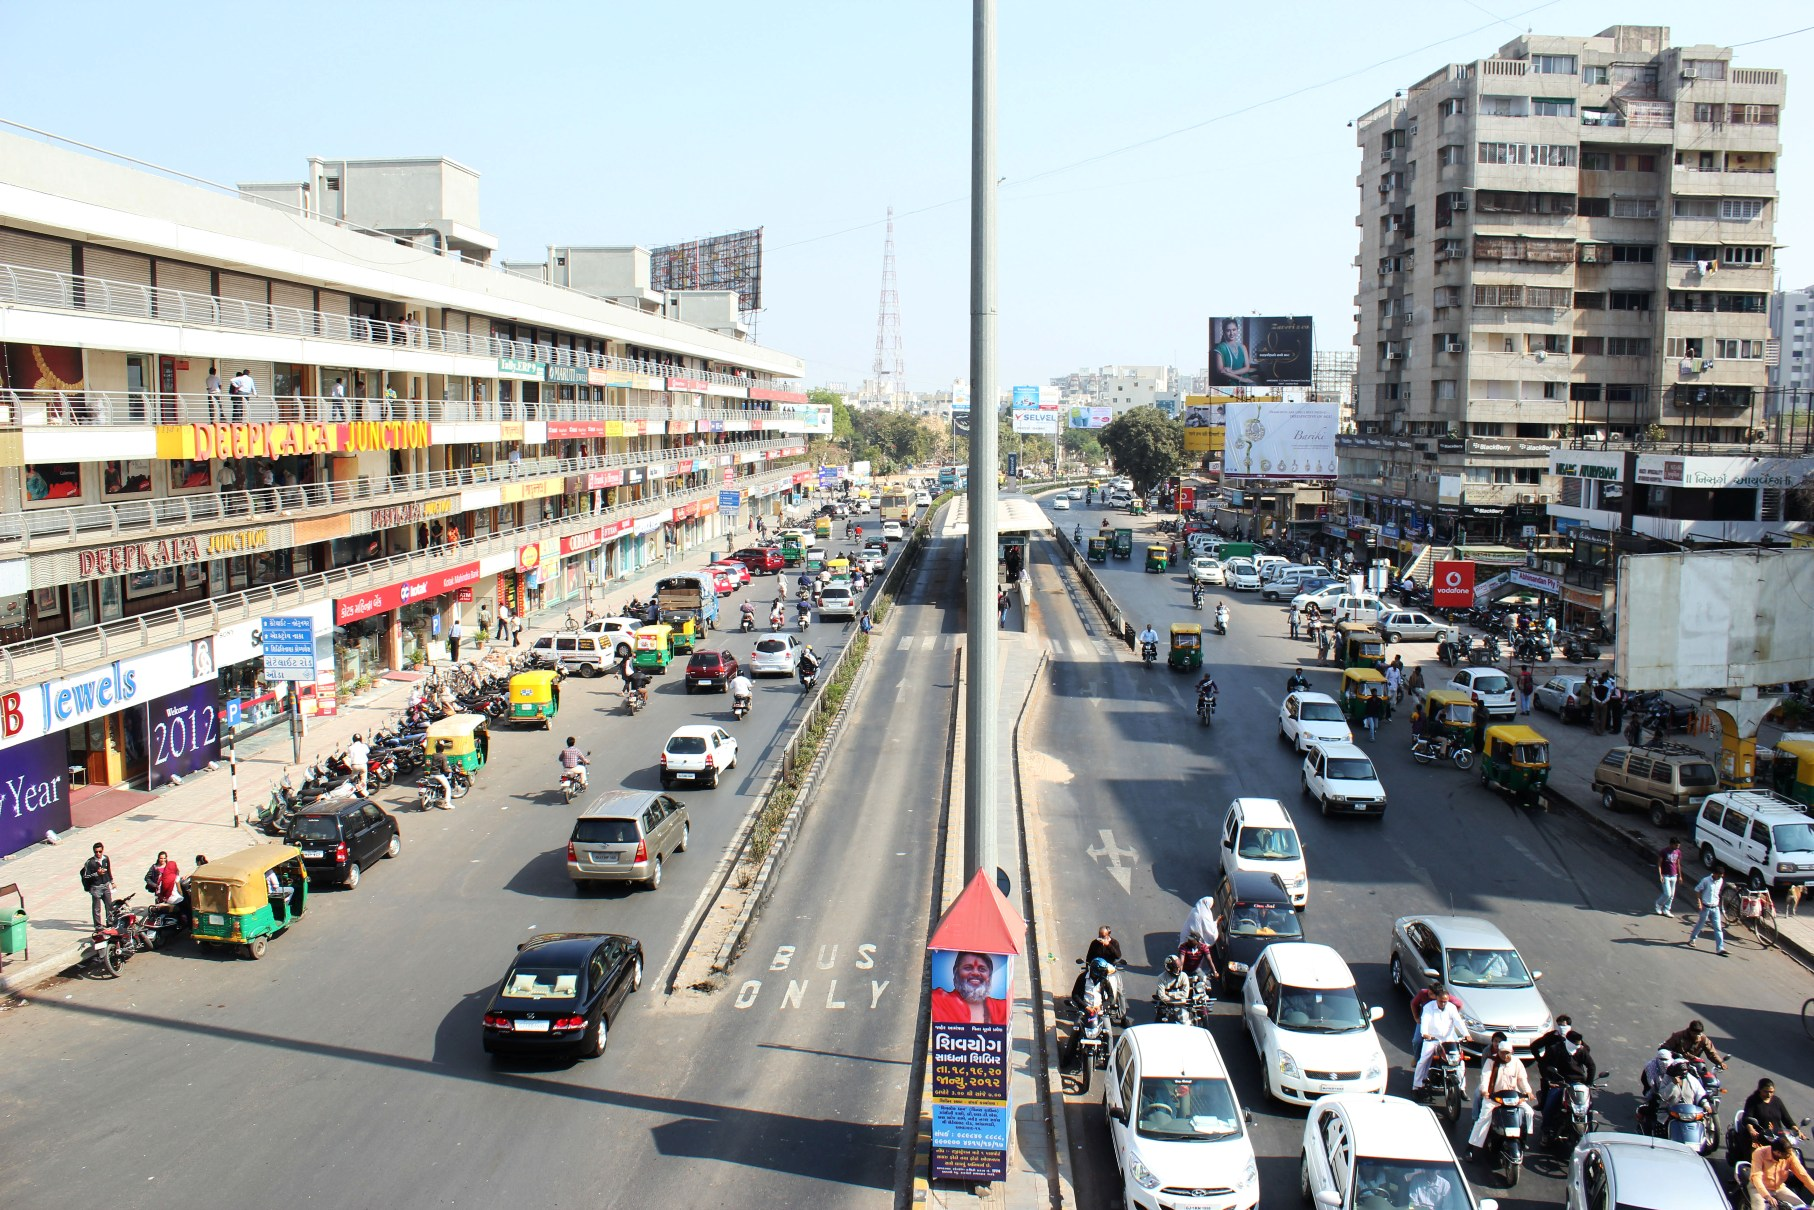car: (1101, 1017, 1269, 1210), (1284, 1074, 1512, 1210), (1236, 939, 1401, 1110), (1382, 905, 1549, 1066), (1207, 781, 1321, 912), (1211, 859, 1301, 974), (1301, 732, 1389, 824), (1277, 687, 1358, 762)
rickshaw: (1475, 713, 1560, 813), (1401, 681, 1487, 772)
two_wheehler: (1072, 916, 1131, 1020), (1047, 1002, 1101, 1102)
